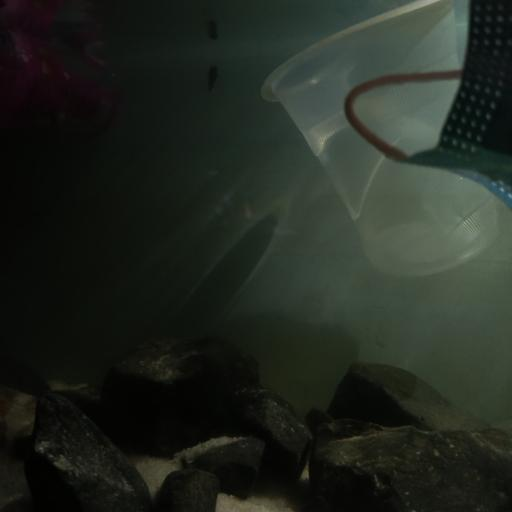mask: (344, 0, 512, 205)
plastic_bottle: (0, 28, 124, 144)
plastic_cup: (261, 0, 512, 284)
